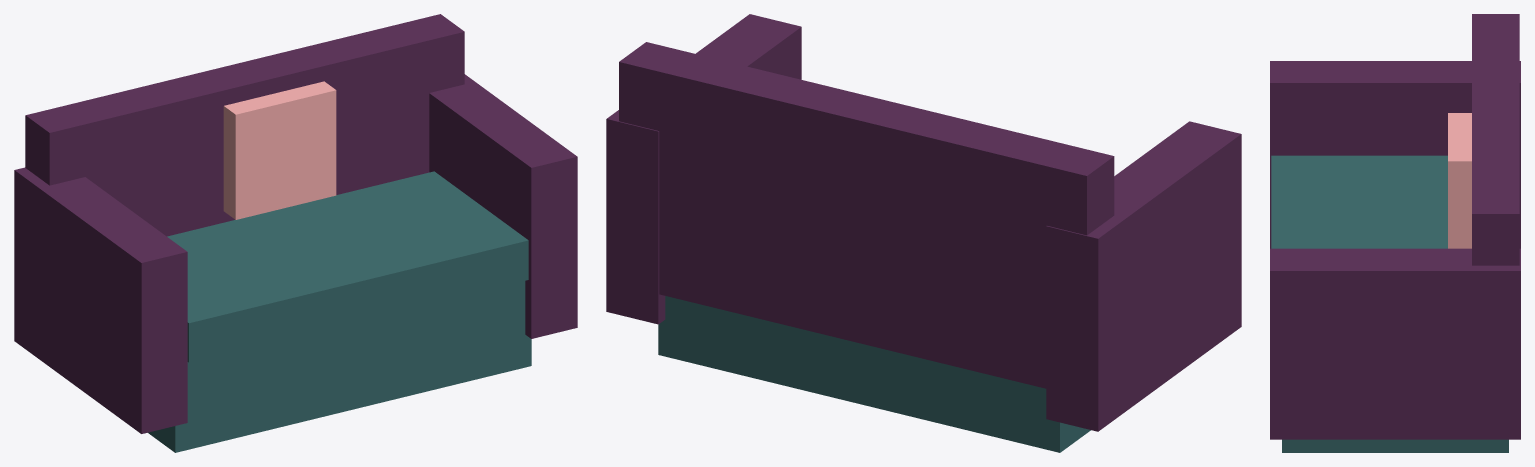
The model's file is couch-small.obj.
3 views of the same model, side by side, from view 1: azimuth 30°, elevation 25°; view 2: azimuth 150°, elevation 25°; view 3: azimuth 270°, elevation 25° (orthographic). The views are drawn at different scales.
Visible parts, largest first — view 1: cozy-back, seat-cushion-1, left-rounded-arm, soft-sofa-base, right-rounded-arm, pillow-1; view 2: cozy-back, left-rounded-arm, soft-sofa-base, right-rounded-arm; view 3: right-rounded-arm, left-rounded-arm, seat-cushion-1, cozy-back, pillow-1, soft-sofa-base.
Part boxes in pixels (x1,y1,x2,y2): cozy-back: [25, 14, 464, 236]; seat-cushion-1: [167, 171, 528, 362]; left-rounded-arm: [14, 167, 187, 433]; soft-sofa-base: [148, 281, 531, 452]; right-rounded-arm: [429, 74, 577, 338]; pillow-1: [223, 81, 336, 219]; cozy-back: [619, 42, 1114, 388]; left-rounded-arm: [1046, 121, 1241, 431]; soft-sofa-base: [658, 296, 1090, 452]; right-rounded-arm: [606, 14, 801, 324]; right-rounded-arm: [1270, 248, 1520, 439]; left-rounded-arm: [1270, 61, 1520, 248]; seat-cushion-1: [1271, 155, 1447, 248]; cozy-back: [1472, 14, 1519, 265]; pillow-1: [1448, 113, 1471, 248]; soft-sofa-base: [1282, 439, 1508, 452].
Bounding box in the file's own units: 2.08 × 1.17 × 1.05.
